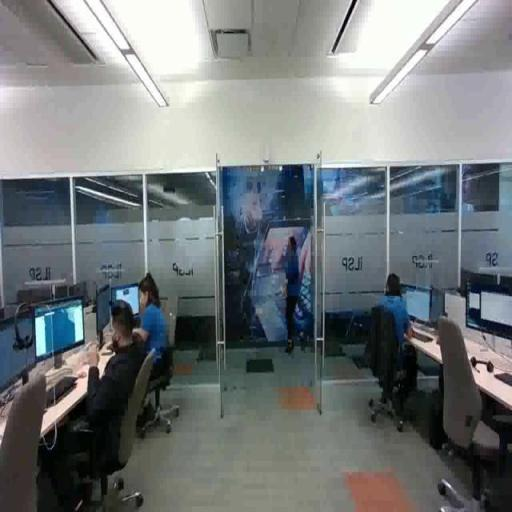person: (84, 301, 147, 446), (375, 269, 421, 417), (131, 271, 181, 388), (281, 233, 311, 356)
